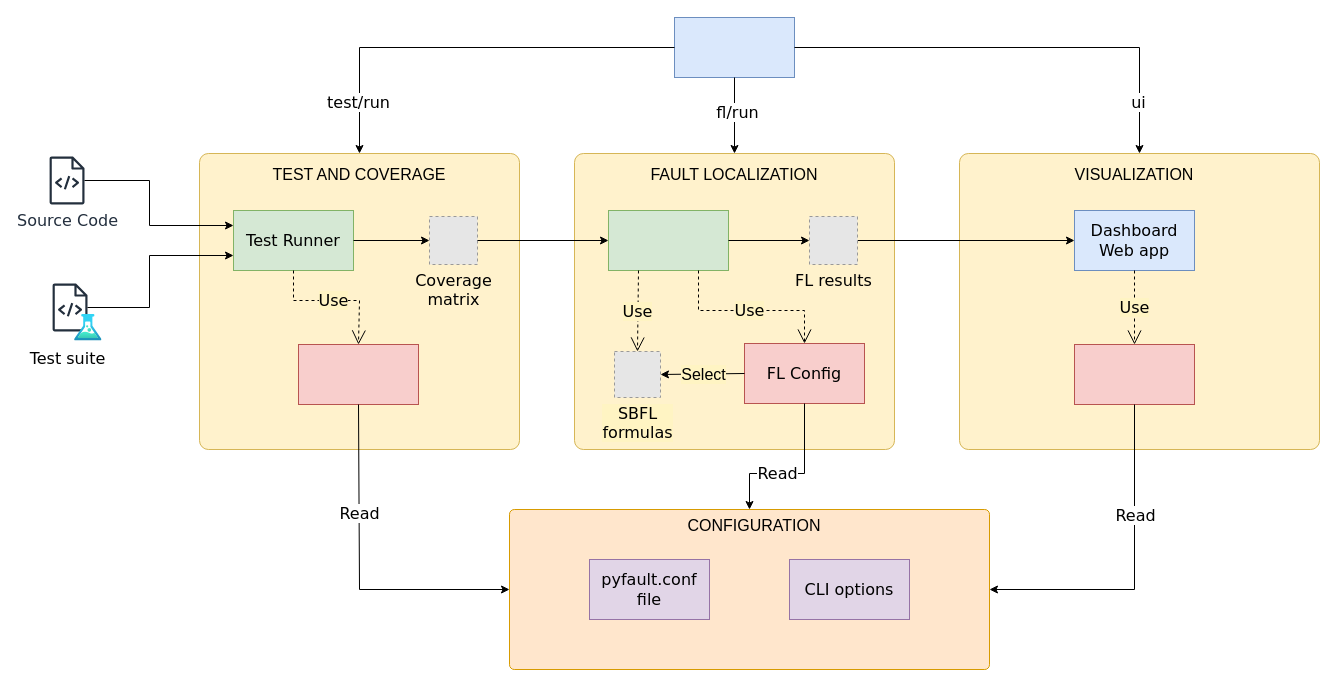
The diagram is 1338 pixels wide and 687 high, and some of its shapes have lost their labels. Grey dashed boxes stand in for pictures. Here are the shapes that lost their labels. From the top down, the centre of each, then its label:
At (x=734, y=47): "CLI".
At (x=668, y=240): "FL Engine".
At (x=358, y=374): "Test Config".
At (x=1134, y=374): "UI Config".
